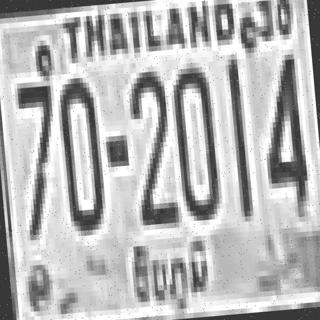N00: (168, 62, 220, 217), (55, 72, 104, 232)
N01: (224, 56, 250, 220)
N02: (127, 68, 176, 223)
N04: (256, 49, 308, 209)
N07: (14, 78, 63, 238), (14, 80, 59, 195)
P09: (122, 230, 220, 315)
